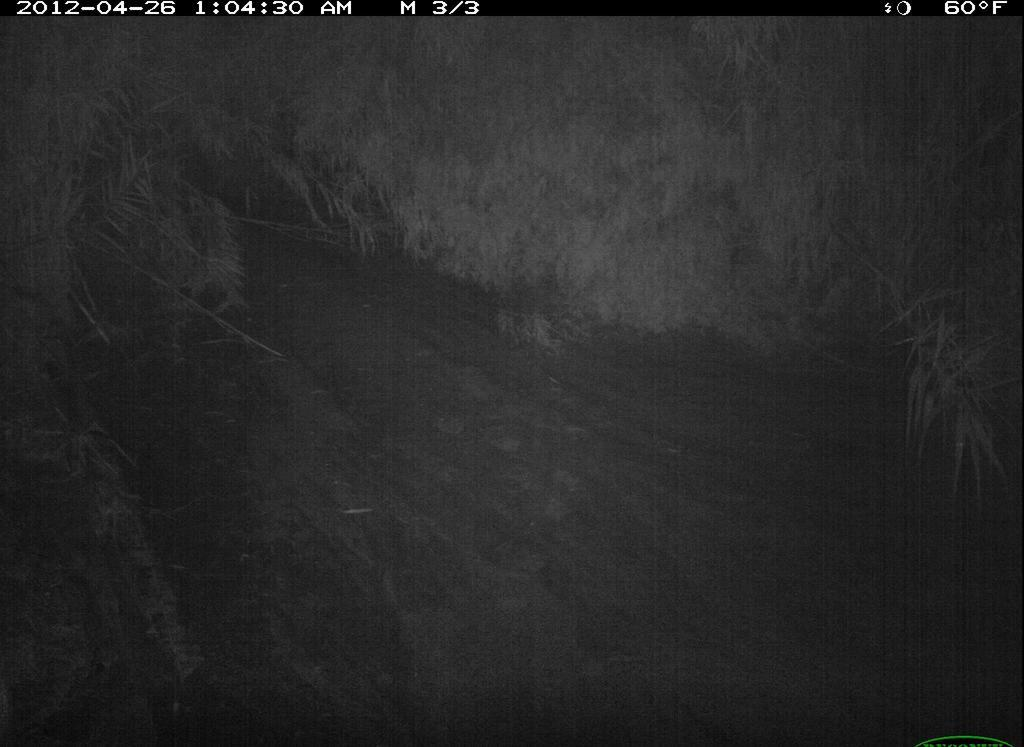opossum: (11, 22, 1024, 747)
